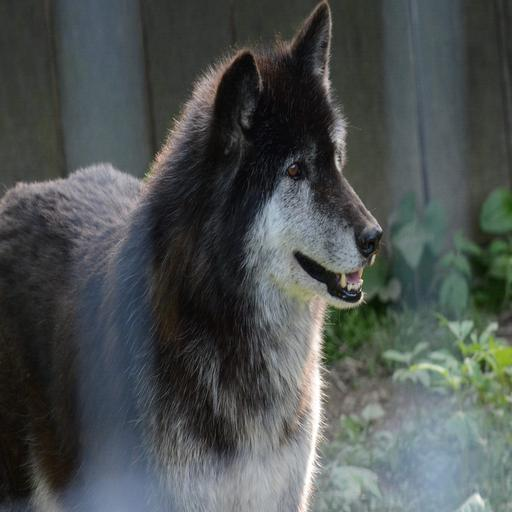Wolf: (0, 0, 386, 512)
